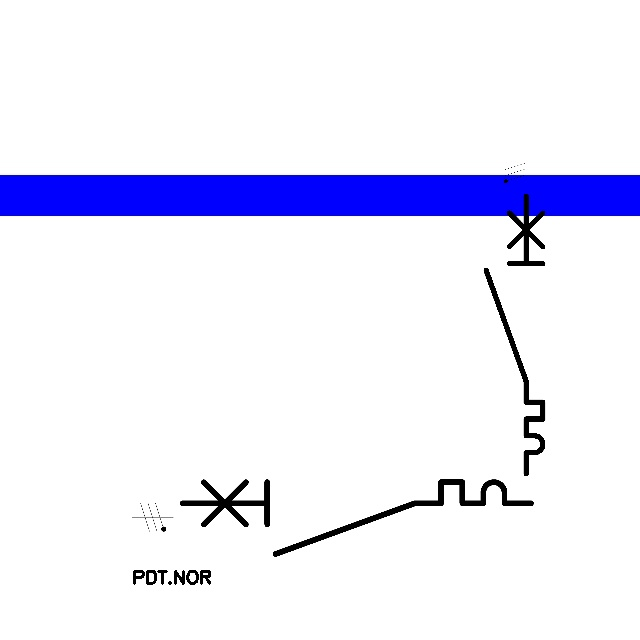interruptor_termomagnetico: (173, 473, 540, 563), (479, 189, 550, 481)
